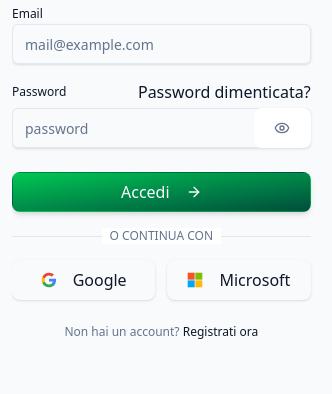
Test: LoginForm › shows validation error if fields are empty
Step 1. Click the button "Accedi" → x=161, y=192, box [12,172,311,212]
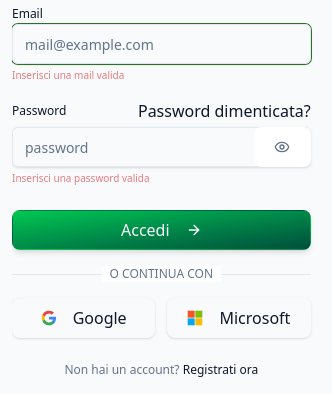
Expected: the text "Inserisci una mail valida" is shown, [12,68,124,82]
Expected: the text "Inserisci una password valida" is shown, [12,171,150,185]
